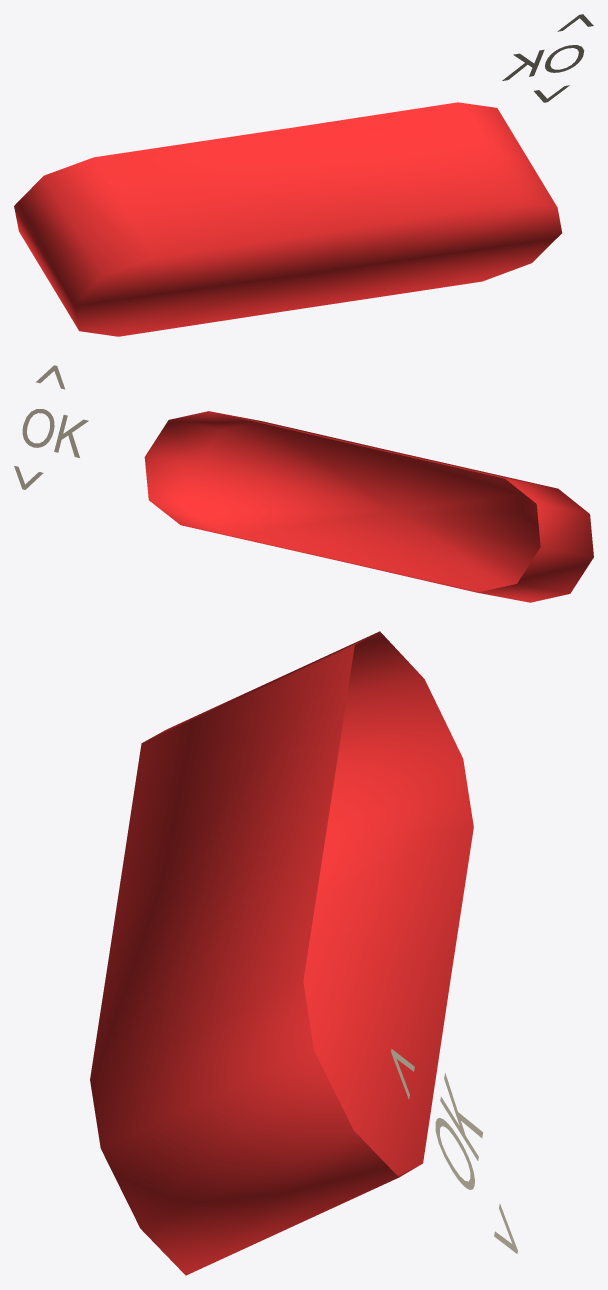
The model's file is OK_FONT.fbx.
3 renders of one model, top to bottom at view 1: azimuth 30°, elevation 25°; view 2: azimuth 150°, elevation 25°; view 3: azimuth 270°, elevation 25°, orthographic. The views are drawn at different scales.
Parts seen in each view (by area): view 1: Object123, Text001; view 2: Object123, Text001; view 3: Object123, Text001.
Part boxes in pixels (x1=…): Object123: x1=14, y1=102, x2=562, y2=336; Text001: x1=502, y1=14, x2=593, y2=102; Object123: x1=144, y1=411, x2=593, y2=602; Text001: x1=14, y1=365, x2=88, y2=489; Object123: x1=90, y1=631, x2=473, y2=1275; Text001: x1=391, y1=1049, x2=517, y2=1253.
Size of the model in its own units: 4.13 by 1.32 by 1.5.
